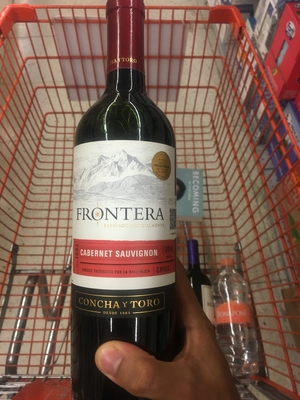frontera cabernet sauvignon: (69, 24, 192, 387)
